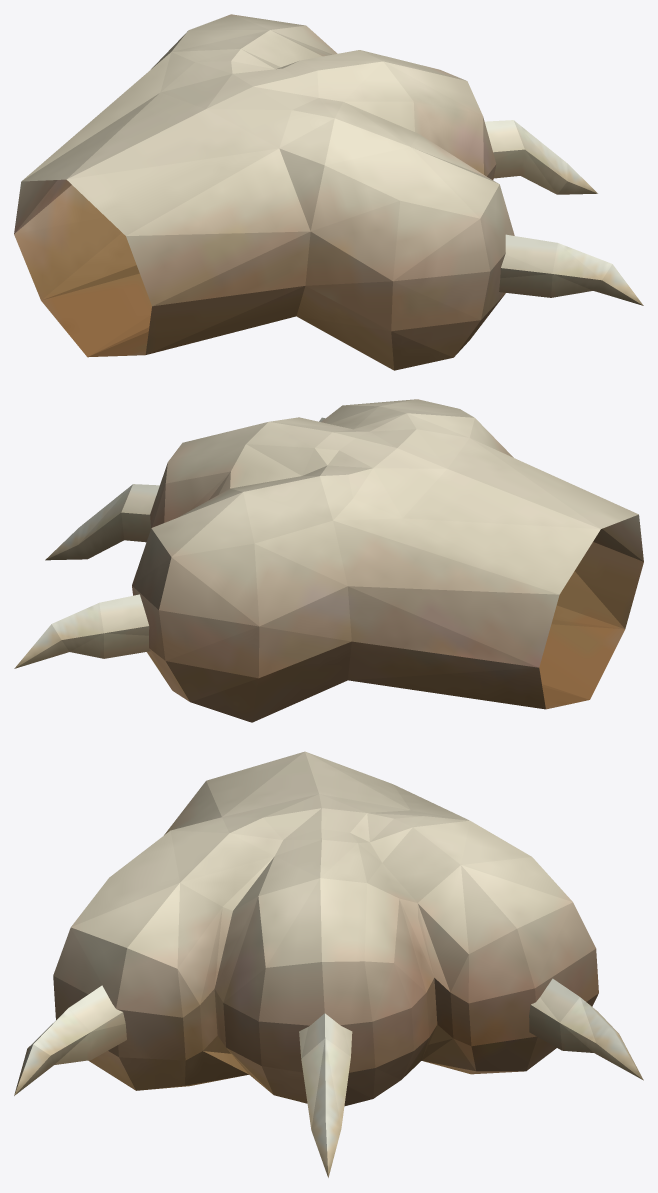
File: 0109_MiaoMiao.glb
The picture shows the model from 3 angles, top to bottom: view 1: azimuth 30°, elevation 25°; view 2: azimuth 150°, elevation 25°; view 3: azimuth 270°, elevation 25°; orthographic projection.
Size of the model in its own units: 2.2 by 0.8953 by 2.17.
1 material, 1 textured.
